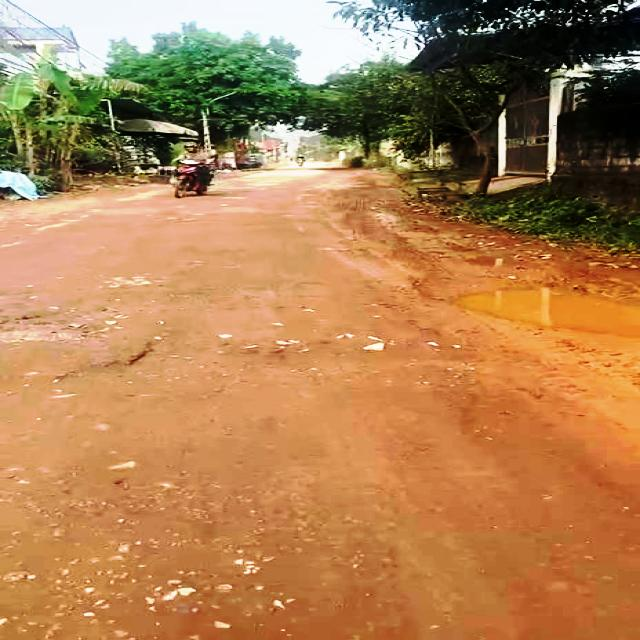pothole: (444, 287, 640, 340), (0, 310, 113, 341)
